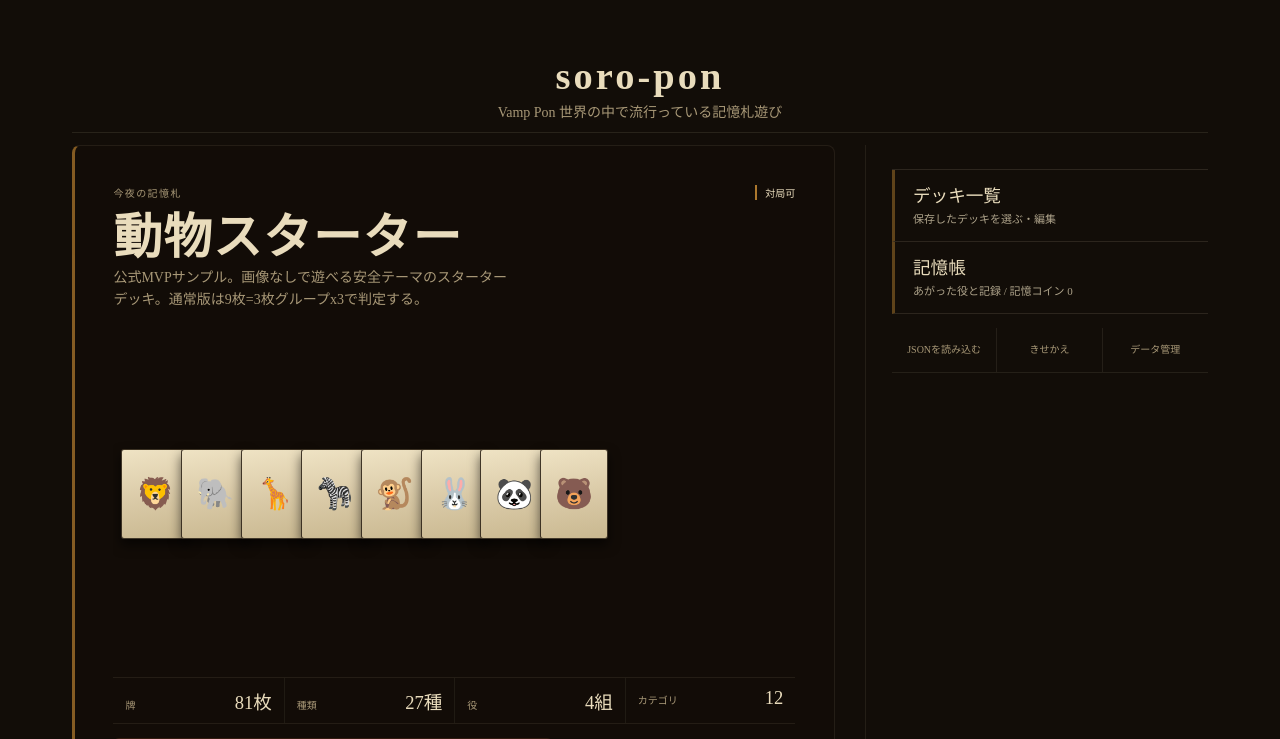
Scenario: TopScreen recovery export › 退避コピーがない場合はダウンロードせず状態を明示する
The image size is (1280, 739).
Click the button "データ管理" at (1155, 350), box [1103,328,1208,372]
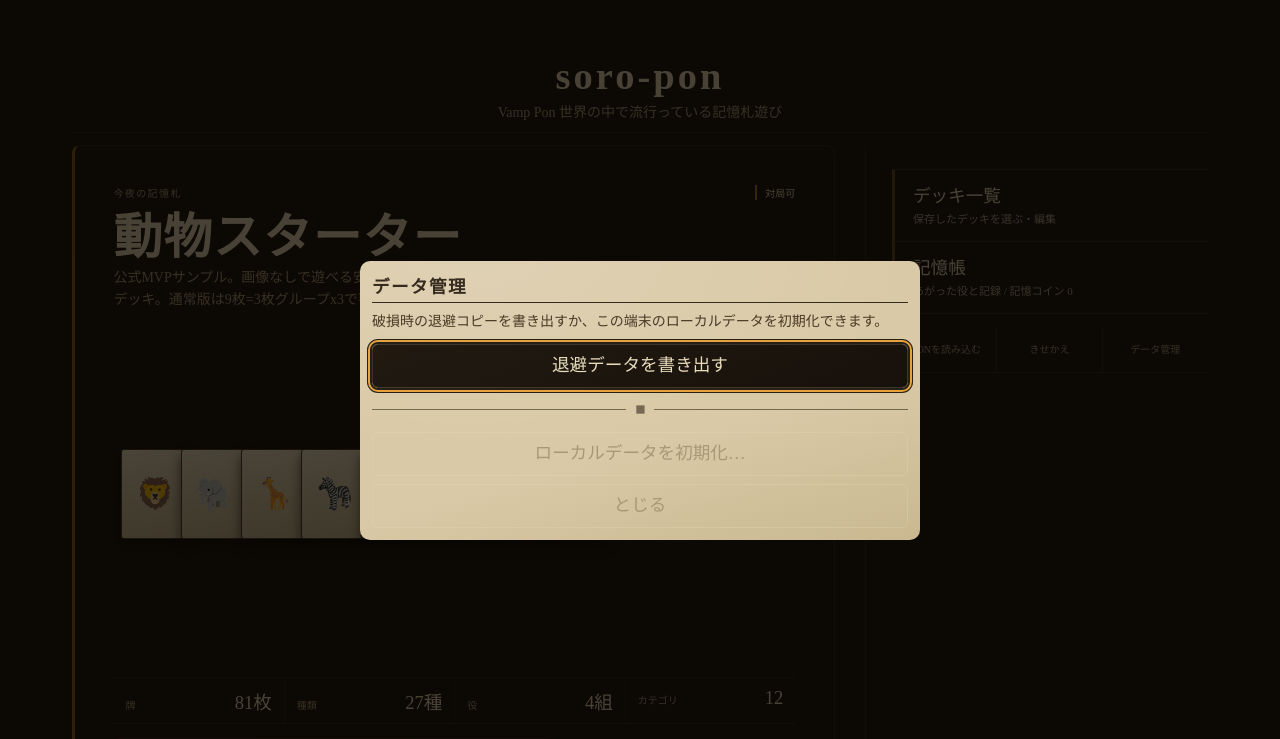
Check: the dialog "データ管理" is shown, box [360,260,920,540]
Click the button "退避データを書き出す" at (640, 366), box [372,344,908,388]
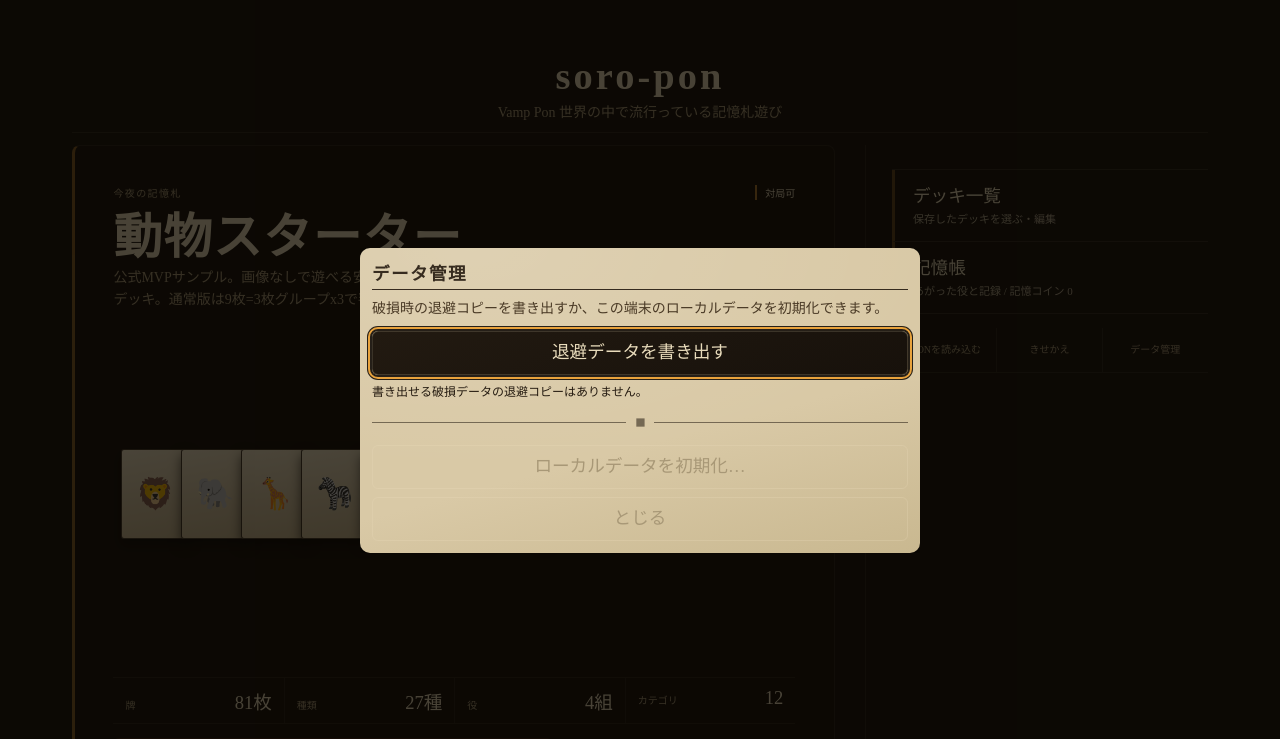
Check: the message shows "退避コピーはありません", box [372,384,648,398]
